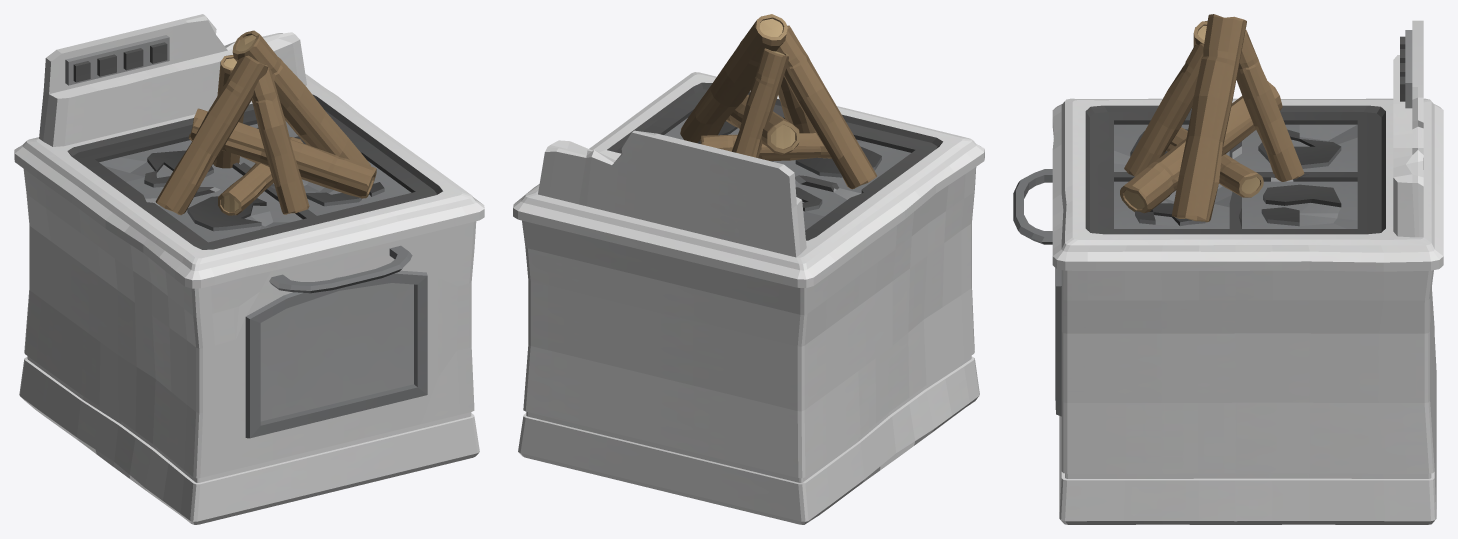
The model's file is oven_1_destroyed.glb.
3 views of the same model, side by side, from view 1: azimuth 30°, elevation 25°; view 2: azimuth 150°, elevation 25°; view 3: azimuth 270°, elevation 25° (orthographic). The views are drawn at different scales.
Parts seen in each view (by area): view 1: oven_destroyed_2, log_1, log_2, log_6, log_3, log_5, log_4; view 2: oven_destroyed_2, log_1, log_2, log_4, log_5, log_6, log_3; view 3: oven_destroyed_2, log_2, log_4, log_6, log_3, log_5.
Part boxes in pixels (x1,y1,x2,y2): oven_destroyed_2: [14, 14, 484, 524]; log_1: [155, 55, 268, 215]; log_2: [232, 30, 370, 166]; log_6: [188, 108, 376, 198]; log_3: [251, 67, 309, 214]; log_5: [218, 137, 303, 215]; log_4: [213, 55, 243, 168]; oven_destroyed_2: [513, 72, 984, 524]; log_1: [776, 25, 876, 189]; log_2: [680, 14, 787, 143]; log_4: [732, 48, 788, 157]; log_5: [700, 133, 831, 160]; log_6: [726, 94, 799, 154]; log_3: [778, 76, 815, 133]; oven_destroyed_2: [1013, 20, 1443, 524]; log_2: [1171, 14, 1246, 222]; log_4: [1236, 30, 1304, 181]; log_6: [1120, 81, 1282, 213]; log_3: [1124, 43, 1203, 176]; log_5: [1166, 127, 1263, 197].
Size of the model in its own units: 0.9832 by 1.26 by 1.13.
1 material, 1 textured.
